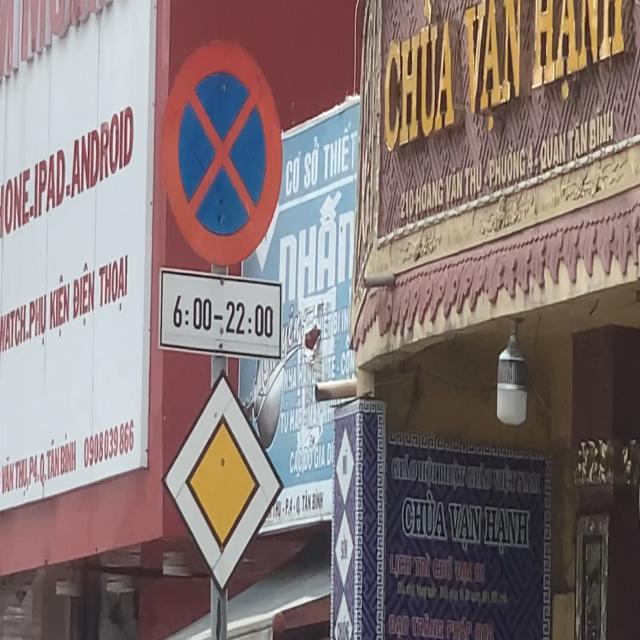Cam dung va do: (160, 38, 284, 268)
